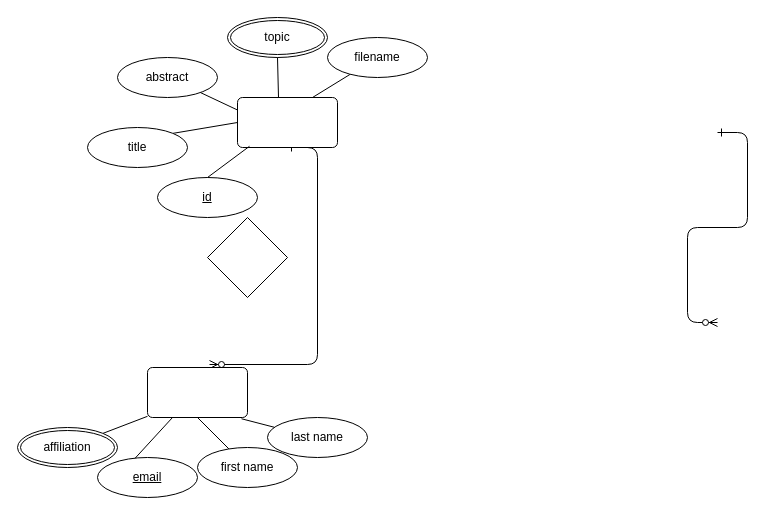
Some shapes in this 774 by 515 pixel diagram are drawn without their labels. Here are the shapes that lost their labels. From the top down, the centre of each, then its label:
At point (287, 122): "Paper".
At point (247, 257): "has".
At point (197, 392): "Reviewer".
